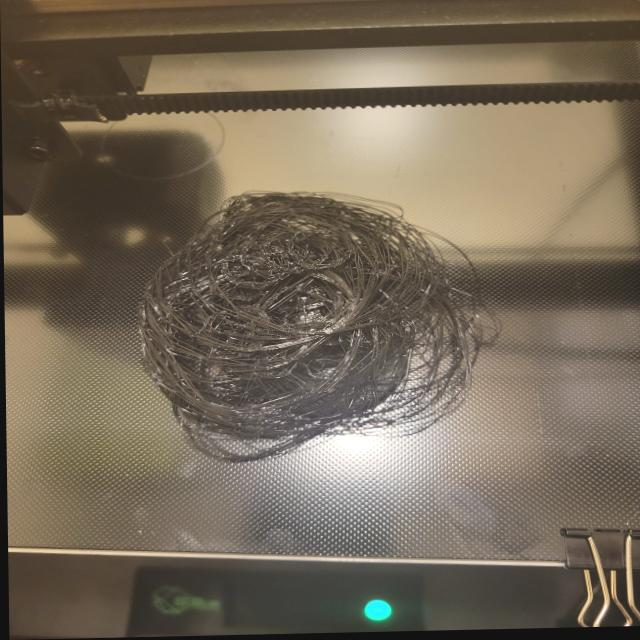spaghetti: (134, 194, 478, 467)
